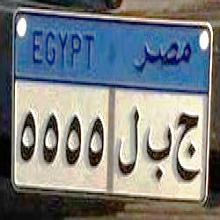5: (19, 102, 38, 173), (87, 112, 106, 182), (63, 107, 84, 167), (42, 109, 61, 172)
baa: (144, 117, 174, 185)
jeem: (176, 109, 203, 186)
laam: (117, 94, 142, 182)
